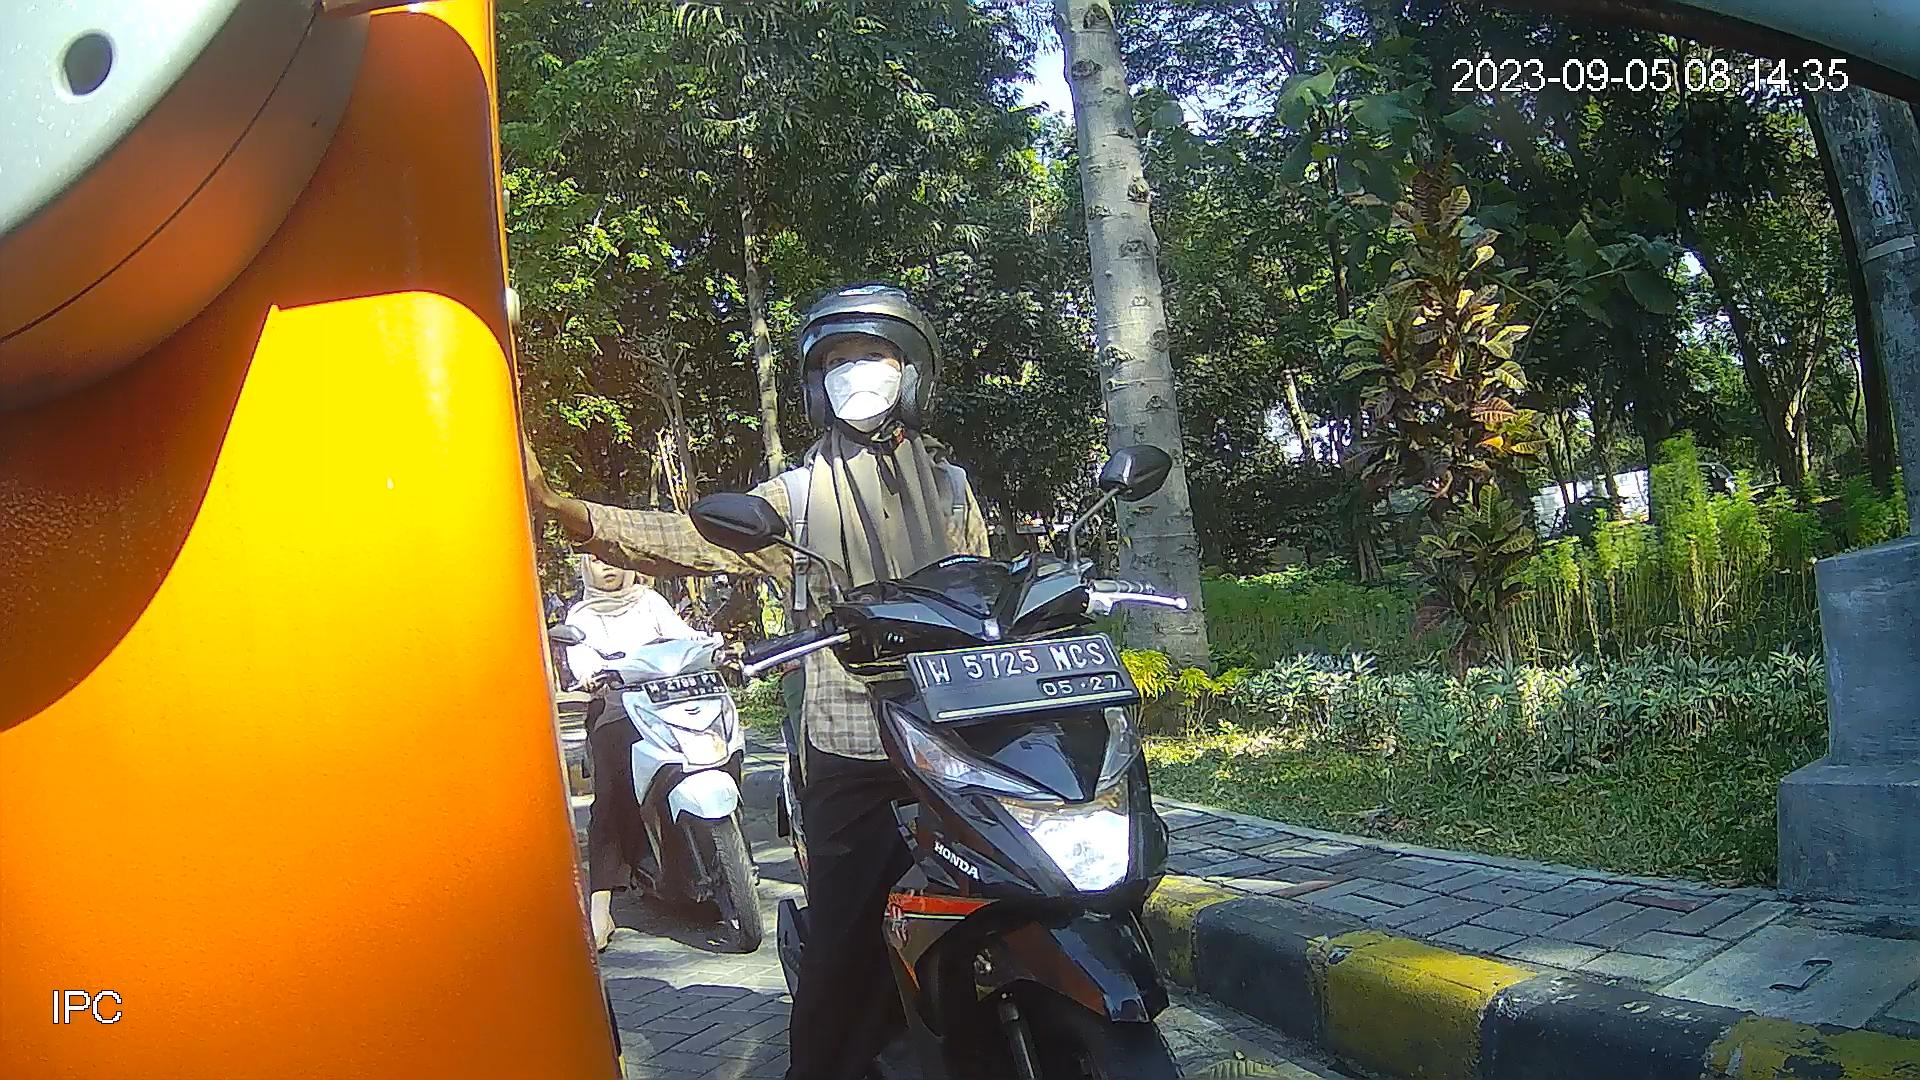plat: (903, 633, 1145, 728)
